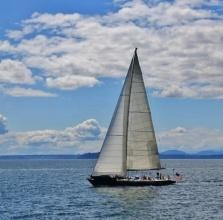fanchuan: (87, 42, 180, 188)
